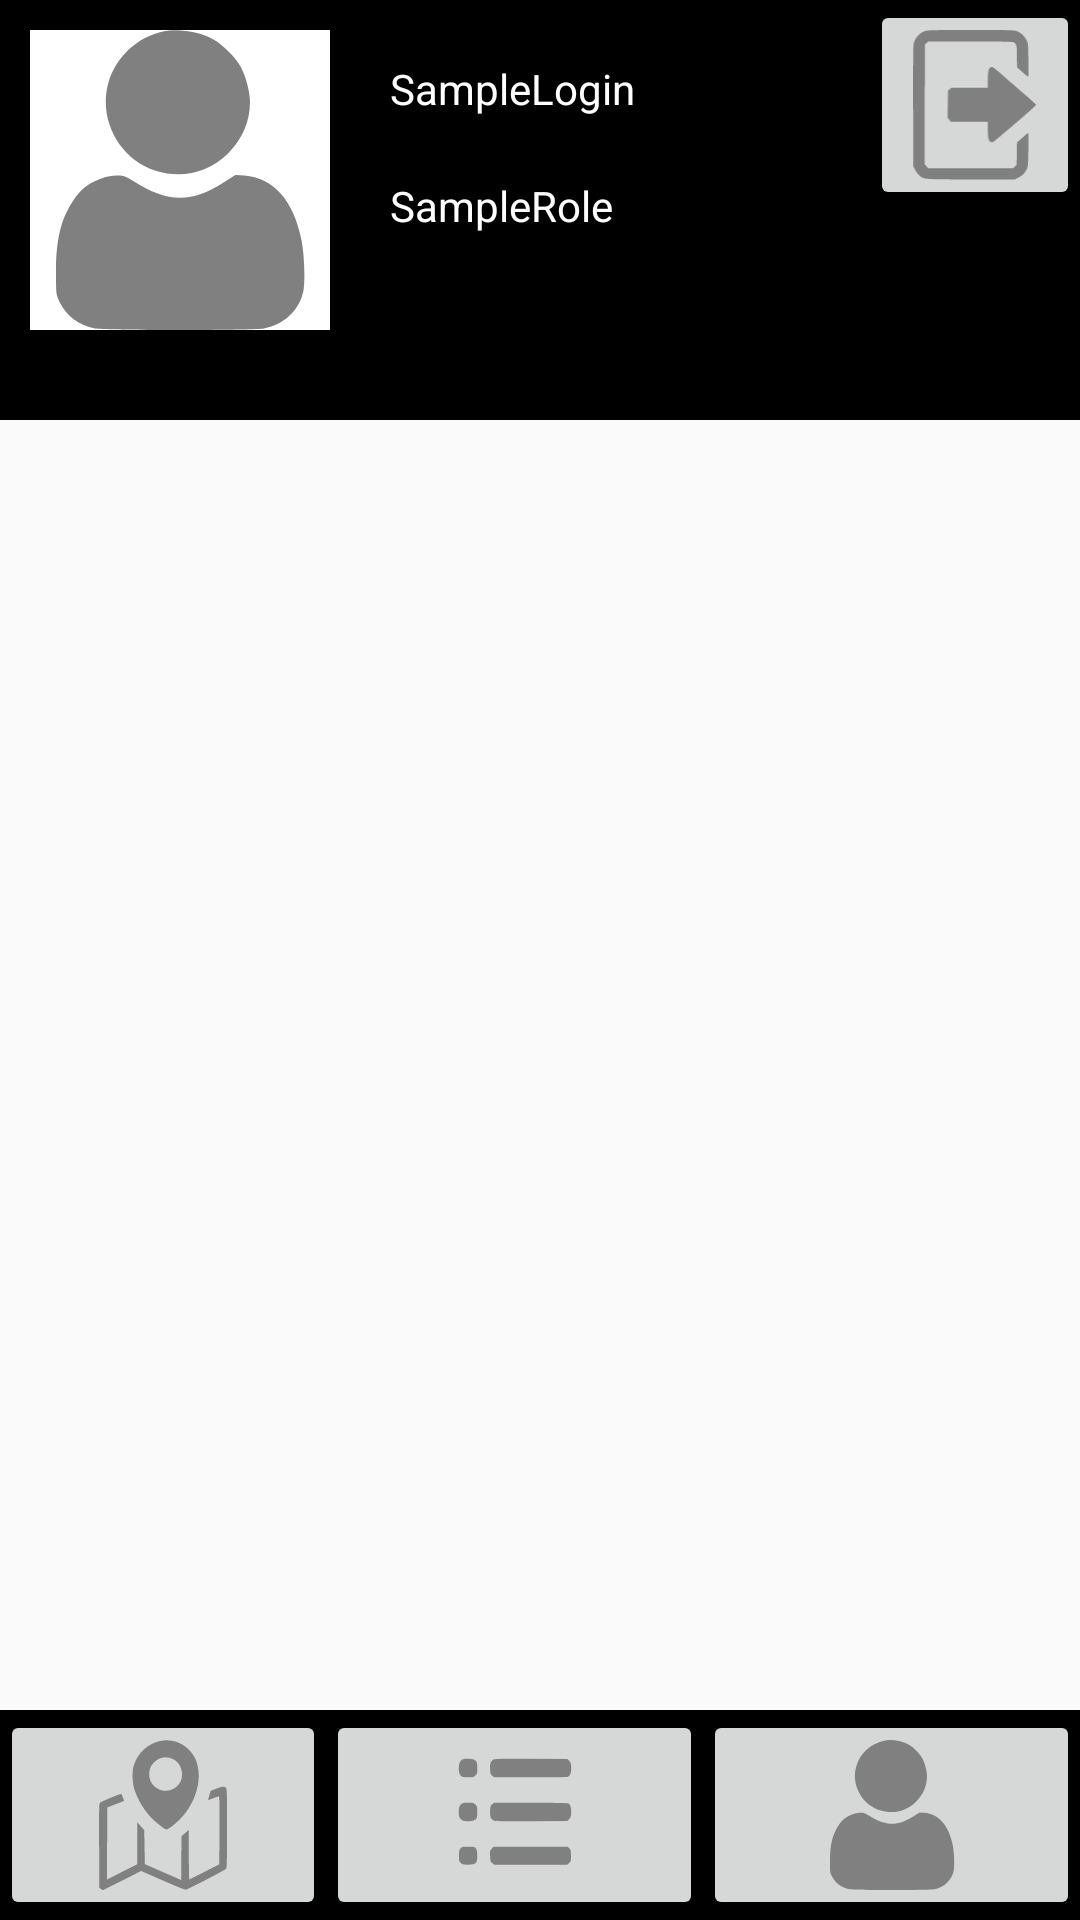

Icon bounding boxes for this 1080x1920 phone screenshot, format {"x1": x1, "y1": y1, "x2": x2, "y2": y2}:
map: {"x1": 12, "y1": 1728, "x2": 314, "y2": 1902}
profile: {"x1": 30, "y1": 30, "x2": 330, "y2": 330}, {"x1": 715, "y1": 1728, "x2": 1068, "y2": 1902}
ticketlist: {"x1": 338, "y1": 1728, "x2": 691, "y2": 1902}
